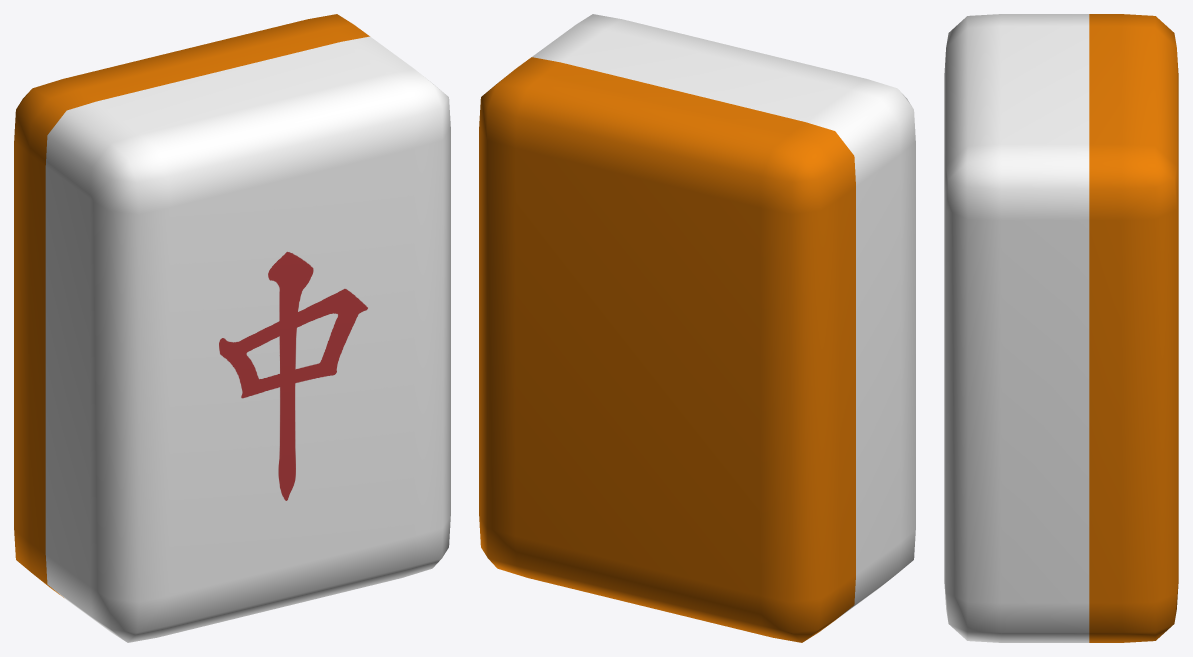
File: tile.glb
The picture shows the model from 3 angles, left to right: view 1: azimuth 30°, elevation 25°; view 2: azimuth 150°, elevation 25°; view 3: azimuth 270°, elevation 25°; orthographic projection.
Visible parts, largest first — view 1: Mahjong_Tile; view 2: Mahjong_Tile; view 3: Mahjong_Tile.
Boxes of the visible parts, bbox=[...] form: Mahjong_Tile: bbox=[14, 14, 450, 642]; Mahjong_Tile: bbox=[479, 14, 915, 642]; Mahjong_Tile: bbox=[944, 14, 1178, 642].
Bounding box in the file's own units: 2.99 × 4.08 × 1.79.
Materials: 2 (1 with a texture image).
